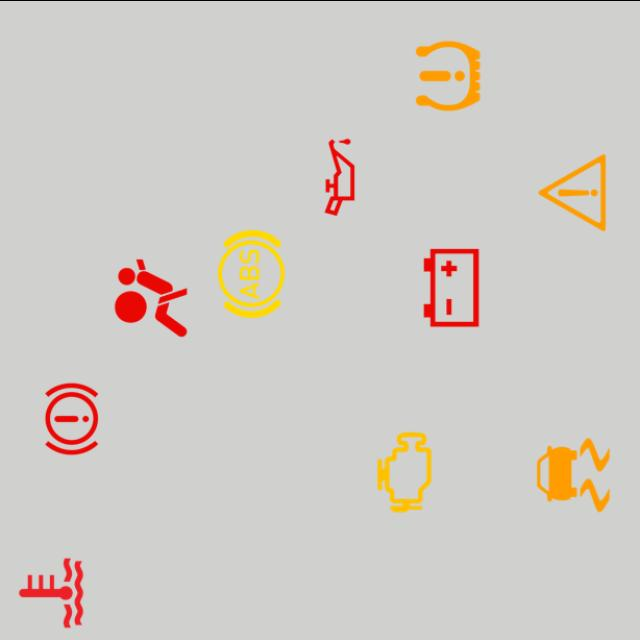Anti Lock Braking System: (203, 225, 299, 321)
Braking System Issue: (24, 370, 120, 466)
Charging System Issue: (404, 238, 499, 334)
Check Engine: (357, 423, 452, 519)
Electronic Stability Problem -ESP-: (526, 427, 622, 522)
Engine Overheating Warning Light: (3, 544, 99, 640)
Low Engine Oil Warning Light: (292, 128, 388, 224)
Low Tire Pressure Warning Light: (400, 27, 496, 123)
Master warning light: (524, 144, 620, 240)
SRS-Airbag: (103, 249, 199, 345)
